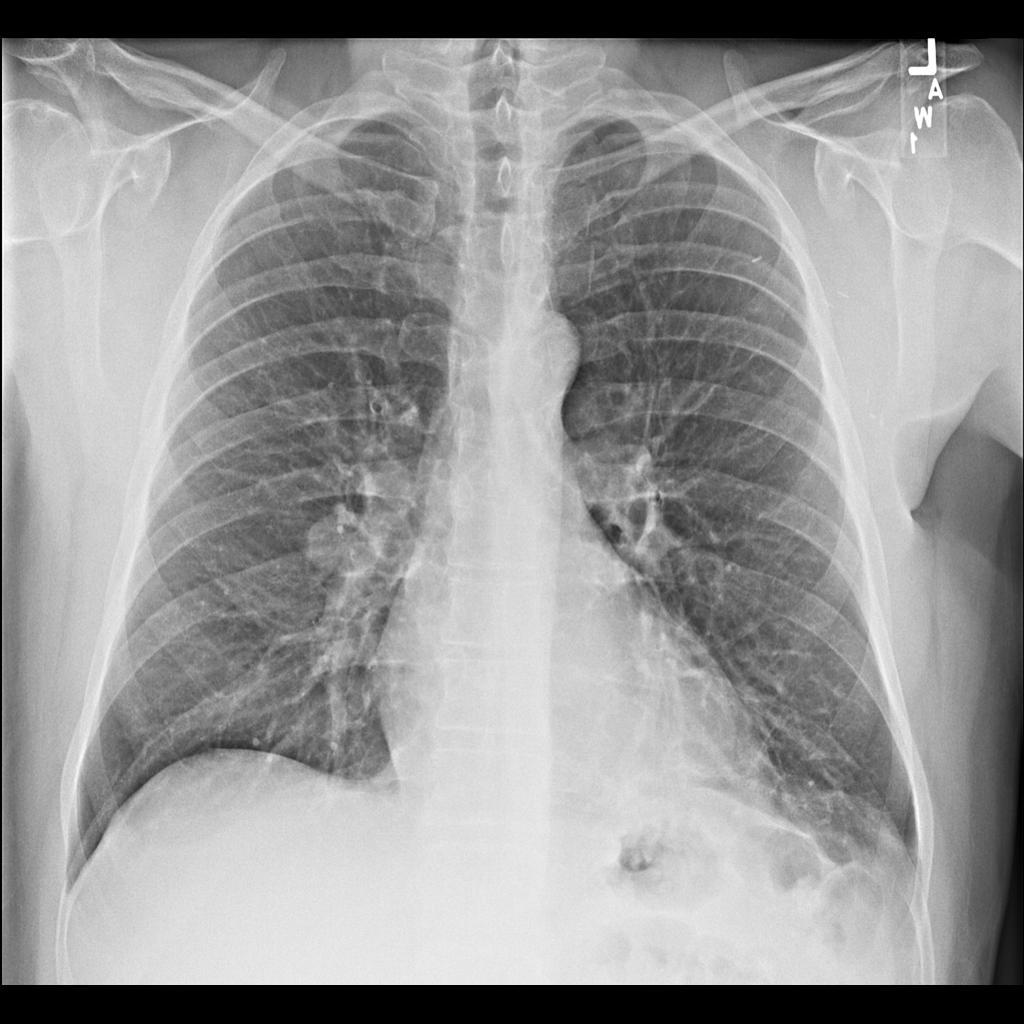Nodule: (306, 505, 378, 583)
